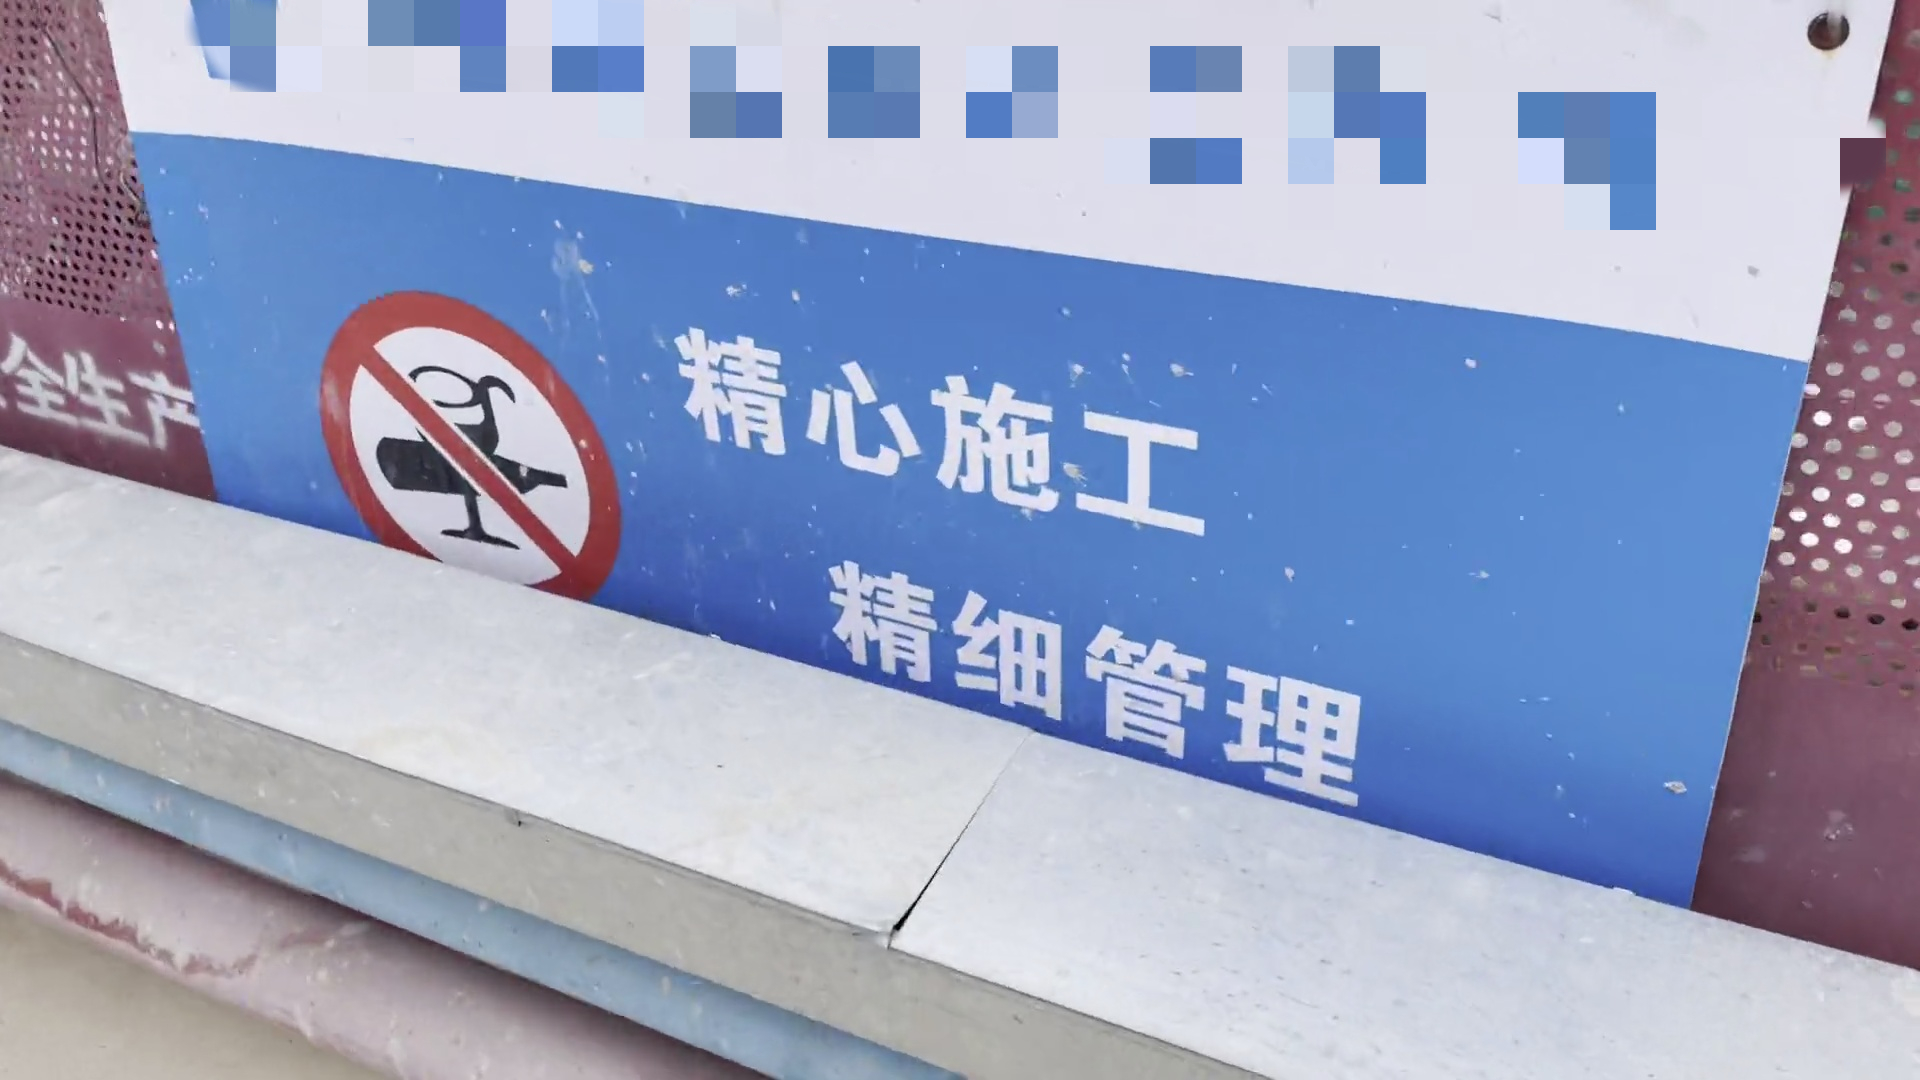fence: (1, 1, 1920, 996)
slogan: (69, 1, 1920, 955)
